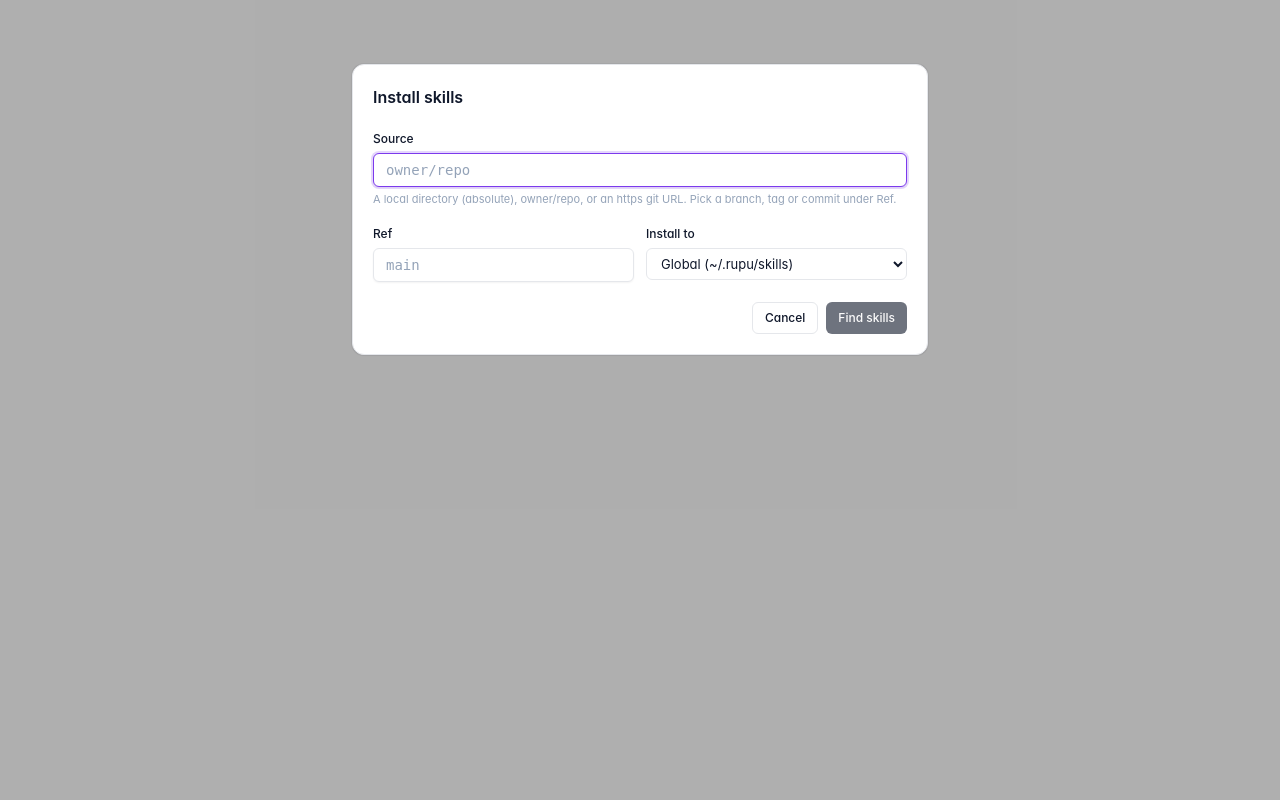
Test: InstallSkillsDialog › installs into a project, then re-reads the source to show what changed
The width and height of the screenshot is (1280, 800).
Select "acme-web (.rupu/skills)" in the dropdown labelled "Install to" at (776, 264), box [646, 248, 907, 280]
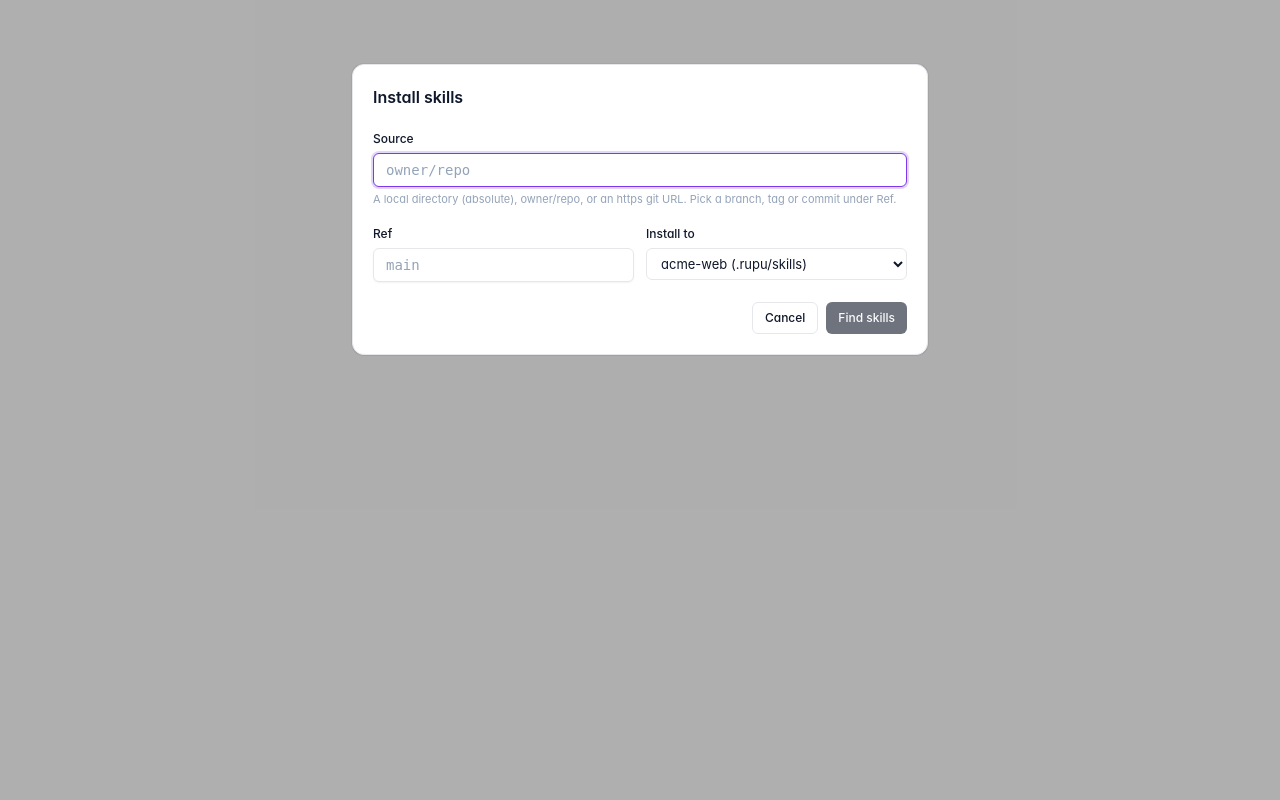
Type "v2" into the field labelled "Ref" at (504, 264), box [373, 248, 634, 282]
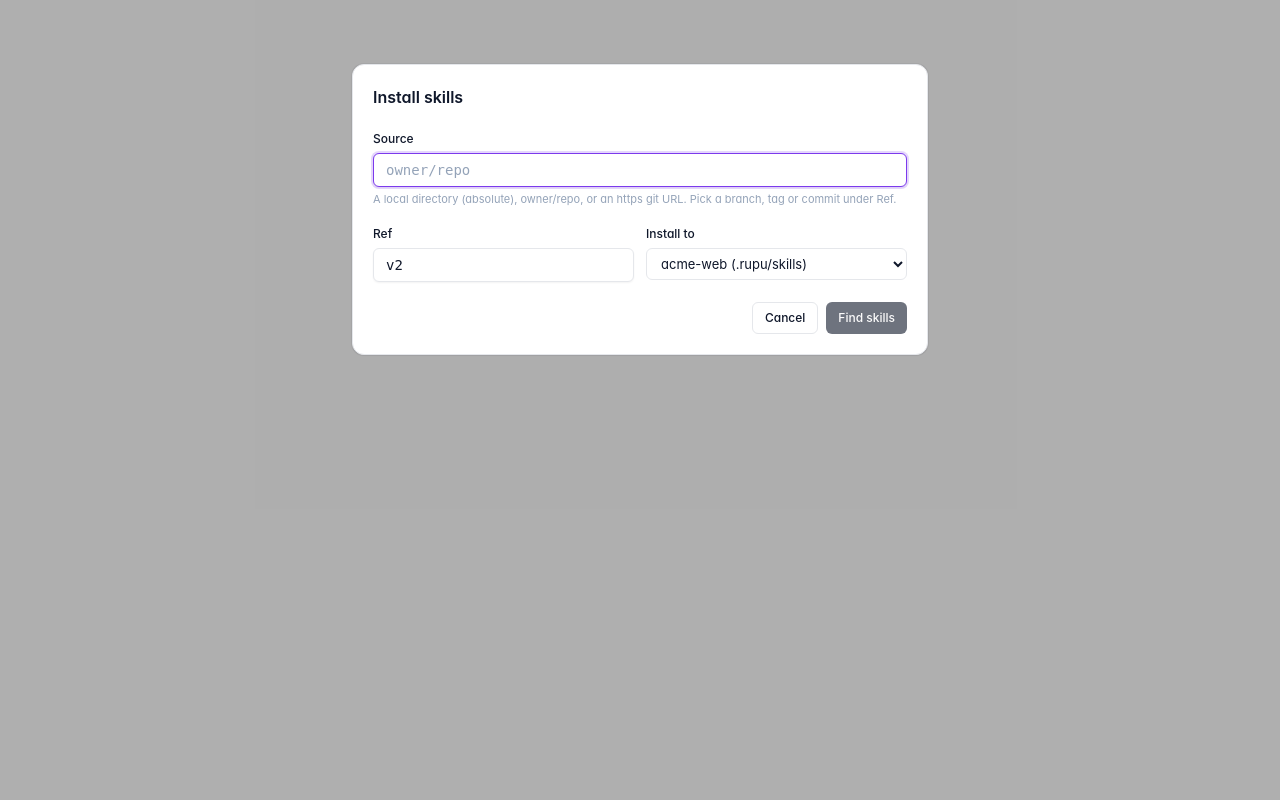
Type "example/skills" into the field labelled "Source" at (640, 170), box [373, 153, 907, 187]
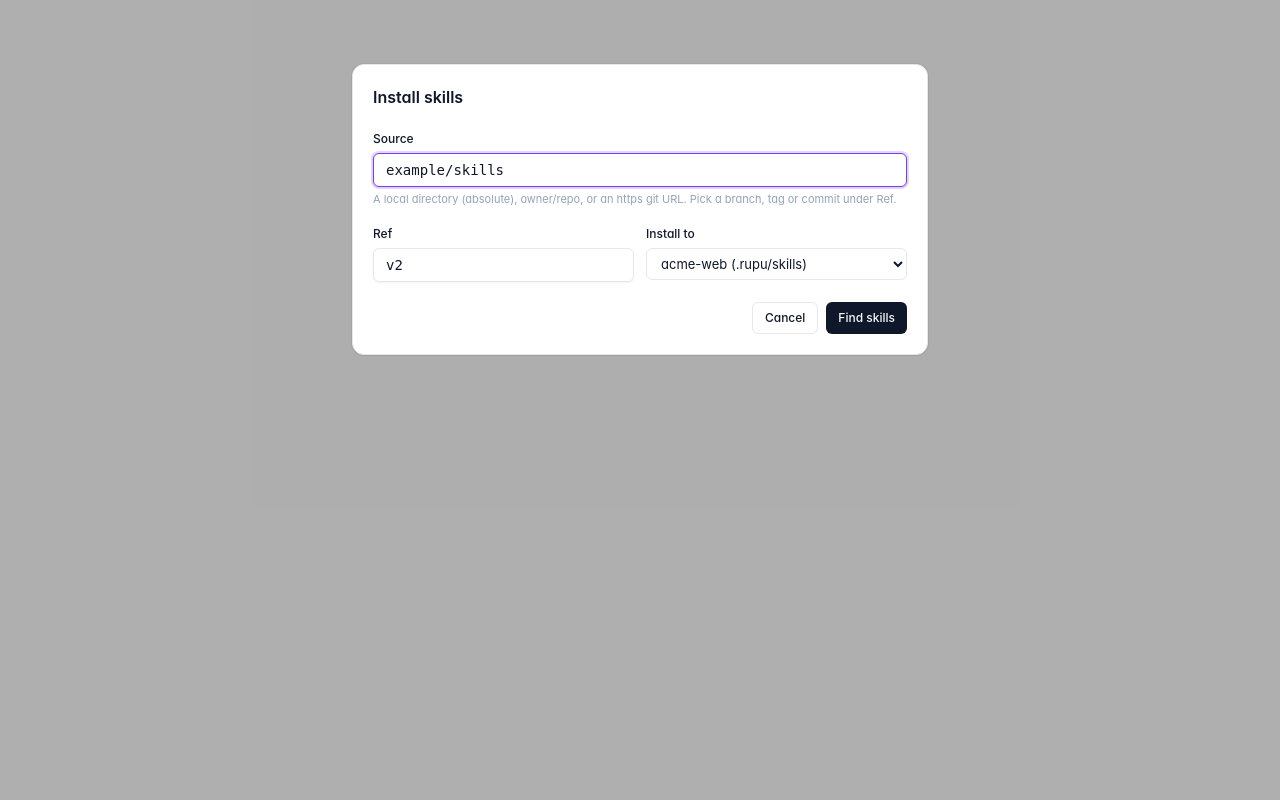
Click the button "Find skills" at (867, 318), box [826, 302, 907, 334]
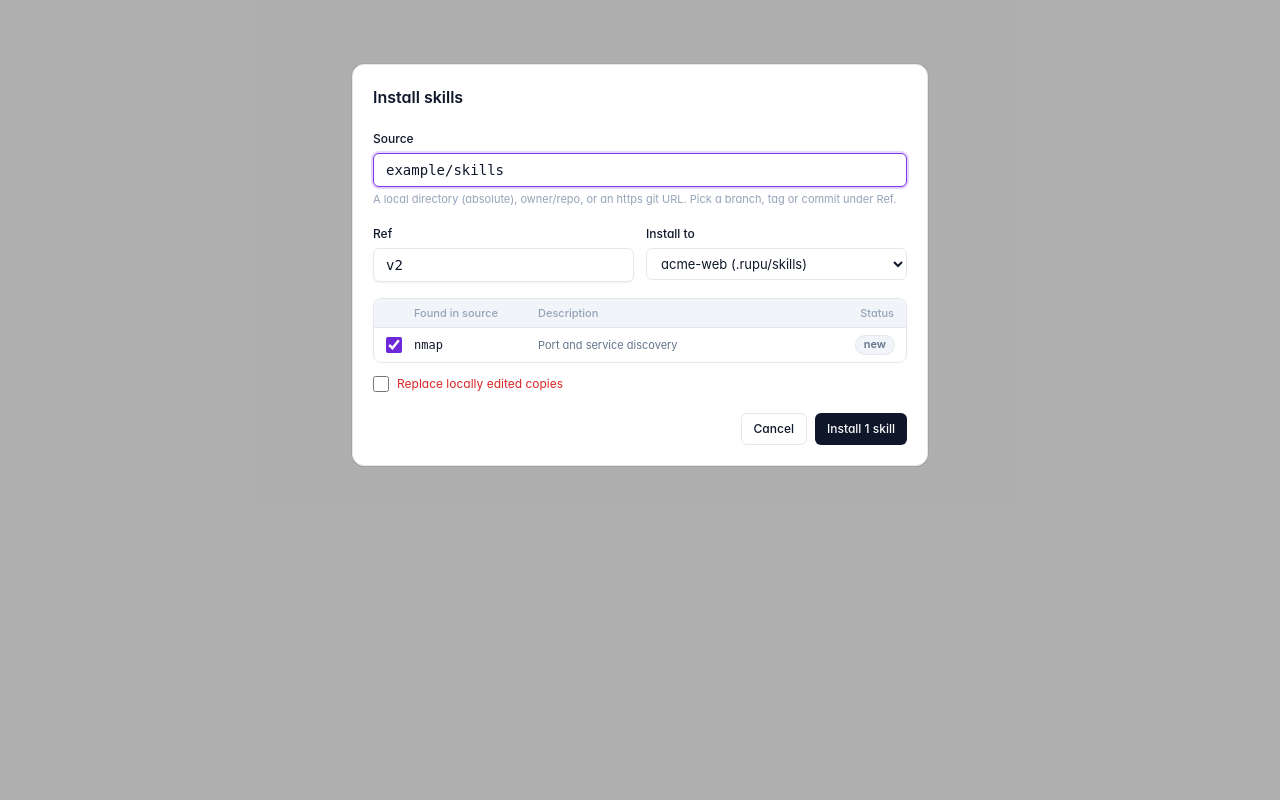
Click the button "Install 1 skill" at (861, 429), box [815, 413, 907, 445]
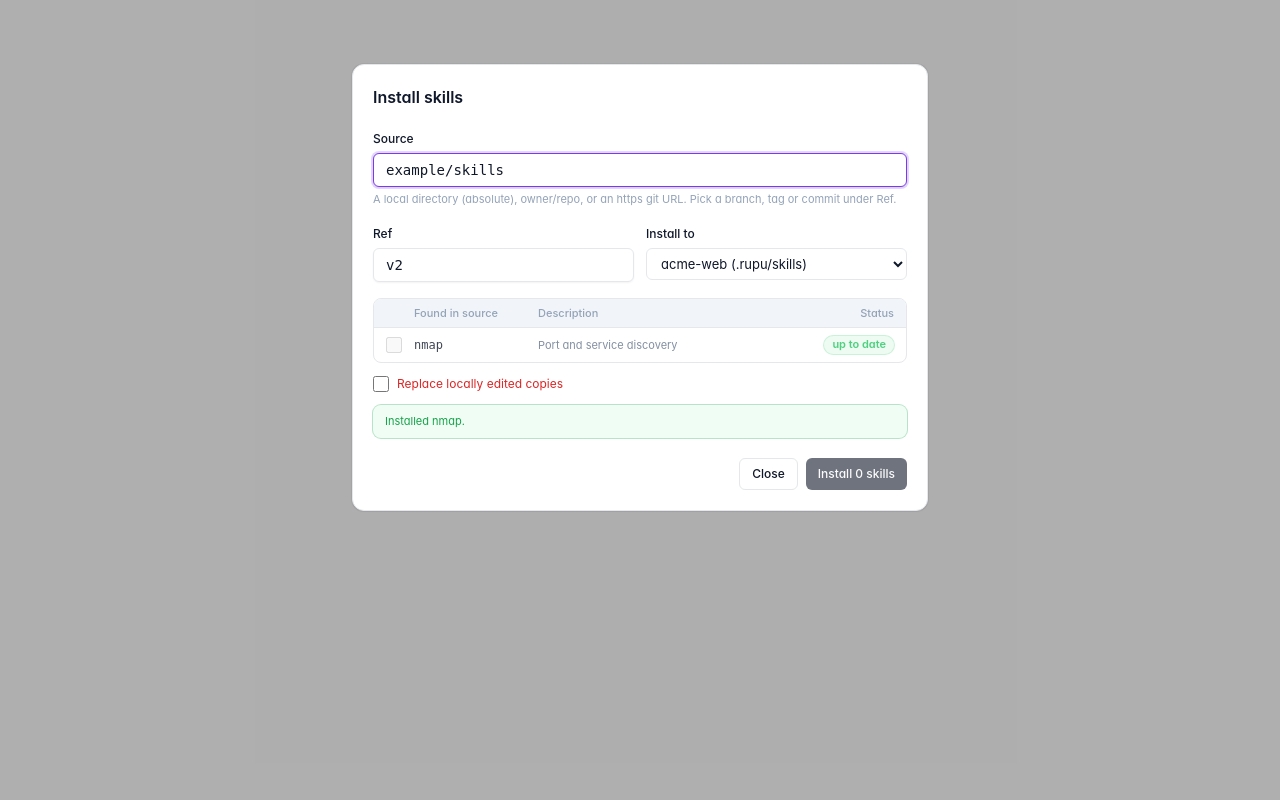
Expected: the text "Installed nmap." is shown, [385, 414, 465, 428]
Expected: the list named "Found in source" shows "up to date", [832, 337, 886, 351]
